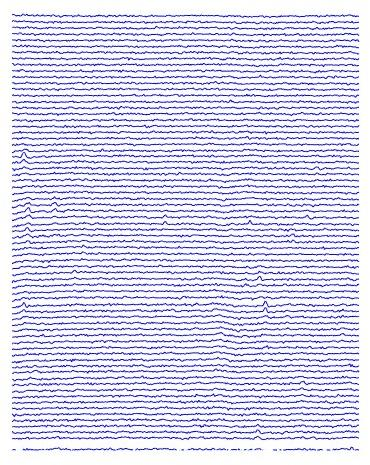defect: (21, 197, 32, 248), (16, 145, 32, 171), (257, 294, 275, 317), (48, 187, 61, 215), (18, 298, 32, 314)
